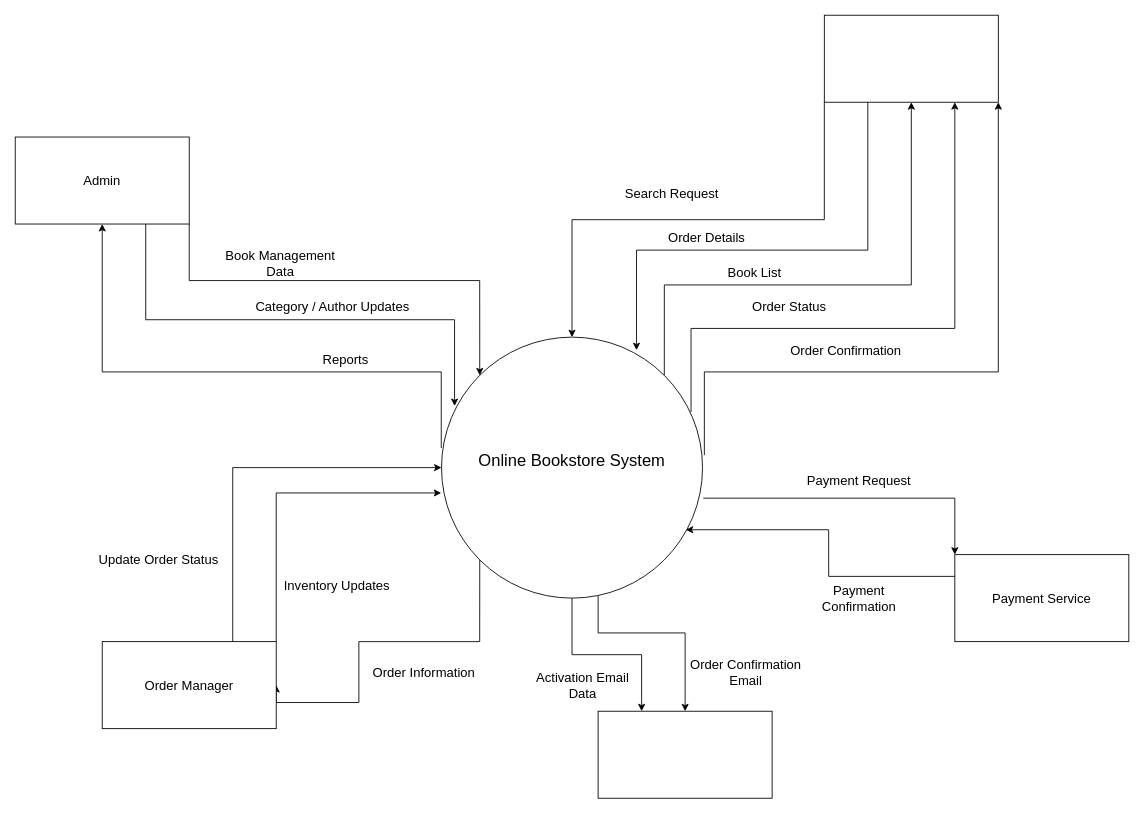
The diagram is 1144 pixels wide and 813 high, and some of its shapes have lost their labels. The shapes that lost their labels are listed below. From the top down, each one's centre as x and y in pixels, then its label:
point 910,58: Customer
point 684,754: Email System:
